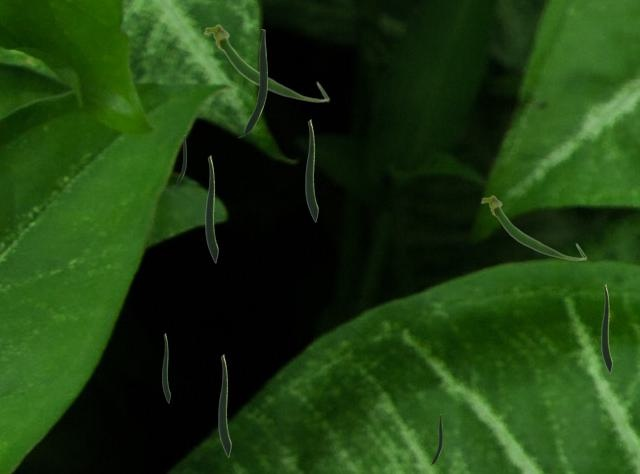french_bean: (203, 24, 329, 102), (480, 194, 586, 260), (238, 29, 266, 136), (205, 155, 217, 262), (218, 354, 230, 456), (305, 119, 317, 221), (601, 284, 611, 372), (430, 414, 441, 464), (174, 135, 185, 185), (162, 333, 169, 402)
